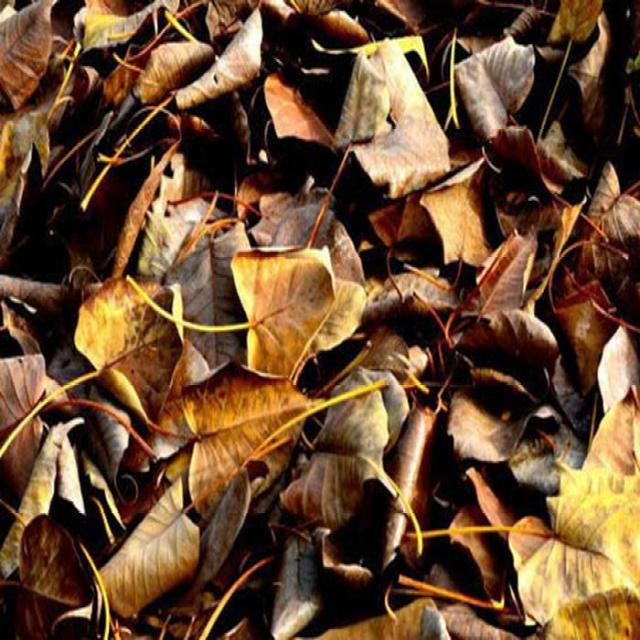Organik: (1, 0, 640, 636)
